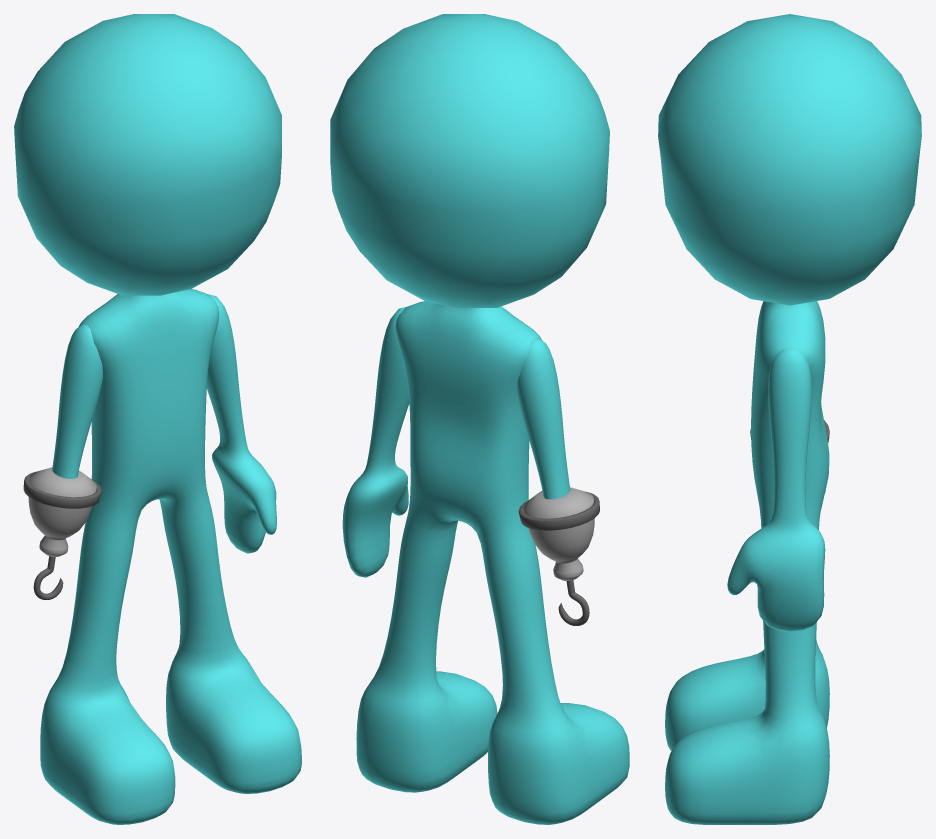
Rendered from PlayerCharacter_Hook_UnRigged.fbx.
3 renders of one model, left to right at view 1: azimuth 30°, elevation 25°; view 2: azimuth 150°, elevation 25°; view 3: azimuth 270°, elevation 25°, orthographic. The views are drawn at different scales.
Visible parts, largest first — view 1: BaseCharacter, Hook; view 2: BaseCharacter, Hook; view 3: BaseCharacter.
Boxes of the visible parts, left/top/right/bottom form: BaseCharacter: left=14, top=14, right=301, bottom=824; Hook: left=33, top=556, right=63, bottom=599; BaseCharacter: left=330, top=14, right=629, bottom=824; Hook: left=558, top=580, right=589, bottom=625; BaseCharacter: left=658, top=14, right=921, bottom=824.
Size of the model in its own units: 46.19 by 138 by 43.6.
